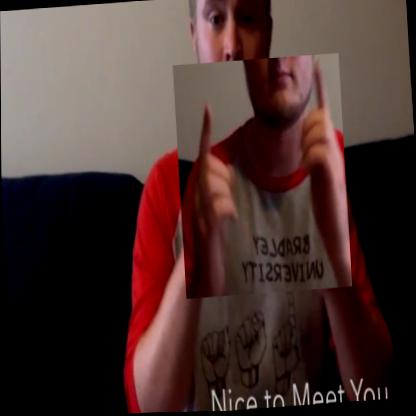NiceToMeetYou: (172, 54, 352, 299)
